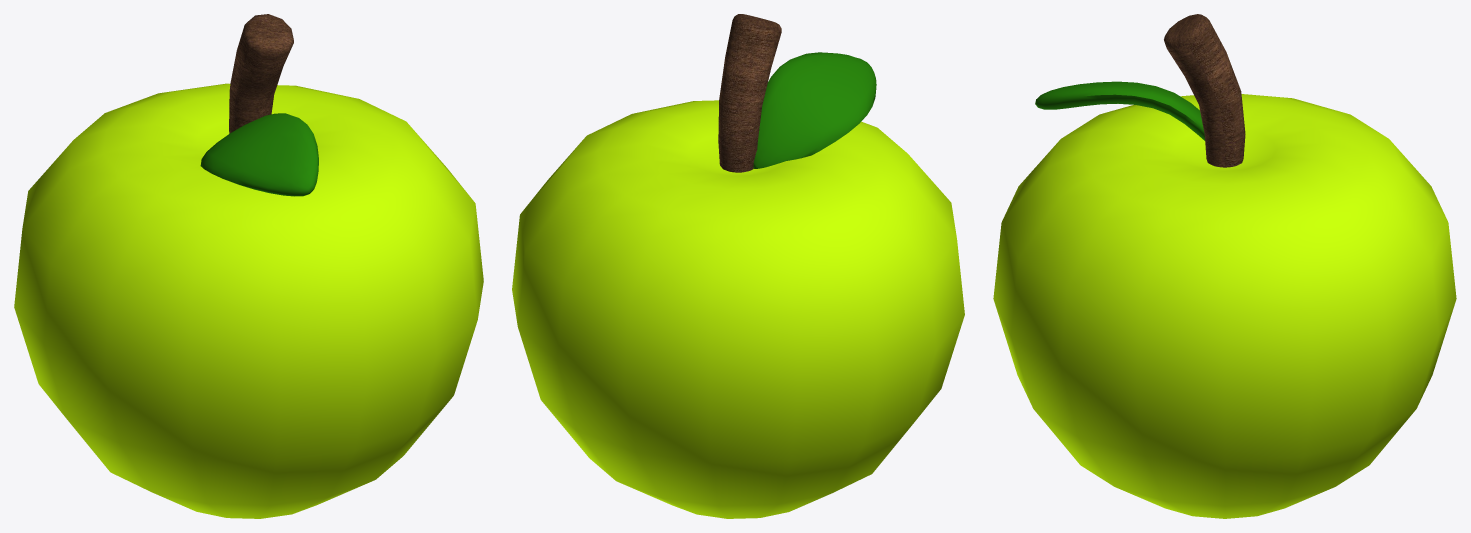
The model's file is Apple-object.glb.
3 views of the same model, side by side, from view 1: azimuth 30°, elevation 25°; view 2: azimuth 150°, elevation 25°; view 3: azimuth 270°, elevation 25° (orthographic). The views are drawn at different scales.
Visible parts, largest first — view 1: defaultMaterial.008; view 2: defaultMaterial.008; view 3: defaultMaterial.008.
Part boxes in pixels (<box>): defaultMaterial.008: <box>14,14,483,518</box>; defaultMaterial.008: <box>512,14,964,518</box>; defaultMaterial.008: <box>993,14,1456,518</box>.
Bounding box in the file's own units: 23.17 × 26.54 × 23.17.
Materials: 1 (1 with a texture image).
